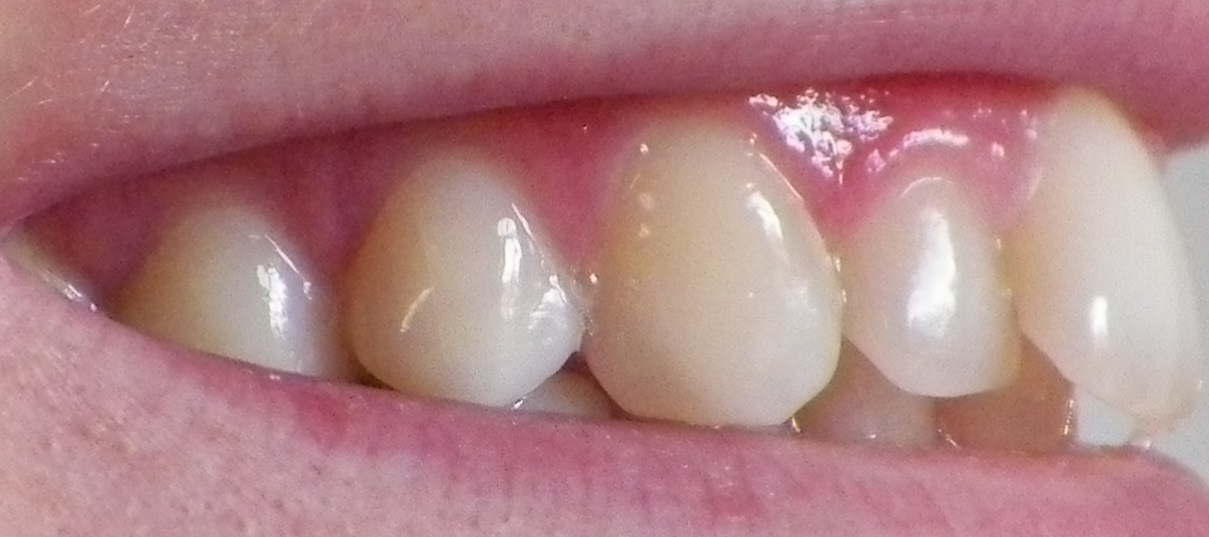boca: (104, 93, 1206, 456)
